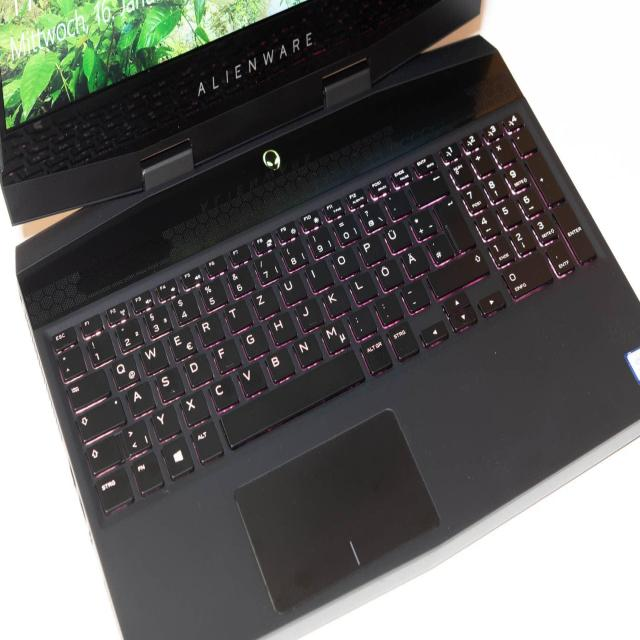0: (332, 211, 360, 248)
1: (85, 330, 115, 368)
2: (115, 315, 145, 353)
3: (143, 301, 173, 339)
4: (171, 288, 201, 326)
5: (198, 276, 229, 314)
6: (226, 262, 256, 300)
7: (252, 246, 280, 285)
8: (280, 235, 309, 272)
9: (306, 223, 335, 261)
a: (125, 379, 156, 418)
accent: (384, 185, 413, 222)
ae: (400, 242, 430, 280)
alt-left: (190, 419, 224, 465)
altgr-right: (359, 335, 393, 373)
b: (265, 347, 296, 385)
c: (209, 374, 240, 412)
caret: (55, 344, 85, 382)
comma: (347, 304, 378, 343)
d: (183, 350, 214, 389)
del: (408, 169, 450, 208)
e: (167, 324, 198, 362)
enter: (432, 194, 476, 254)
f: (212, 337, 242, 375)
g: (239, 322, 270, 361)
h: (267, 309, 298, 348)
hash: (427, 229, 456, 267)
i: (304, 257, 334, 295)
j: (294, 296, 325, 334)
k: (321, 281, 351, 320)
keyboard: (10, 103, 603, 528)
l: (348, 267, 379, 306)
less: (122, 419, 153, 457)
m: (320, 317, 350, 356)
minus: (400, 278, 430, 313)
n: (292, 332, 323, 370)
o: (331, 244, 361, 283)
oe: (374, 255, 404, 294)
p: (356, 230, 387, 268)
plus: (407, 205, 438, 244)
point: (374, 290, 405, 329)
q: (110, 353, 140, 391)
r: (195, 309, 226, 347)
s: (154, 365, 184, 404)
shift-left: (85, 431, 125, 475)
shift-lock: (75, 396, 128, 444)
shift-right: (426, 249, 490, 300)
space: (220, 350, 365, 450)
ss: (358, 198, 387, 236)
strg-left: (96, 468, 134, 514)
strg-right: (386, 320, 420, 360)
t: (223, 297, 254, 335)
tab: (65, 367, 111, 414)
u: (277, 270, 308, 308)
ue: (382, 215, 413, 254)
v: (237, 360, 268, 398)
w: (139, 337, 169, 375)
x: (179, 389, 210, 427)
y: (150, 402, 181, 441)
z: (250, 284, 281, 322)
